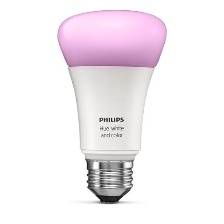light_bulb: (51, 6, 171, 207)
